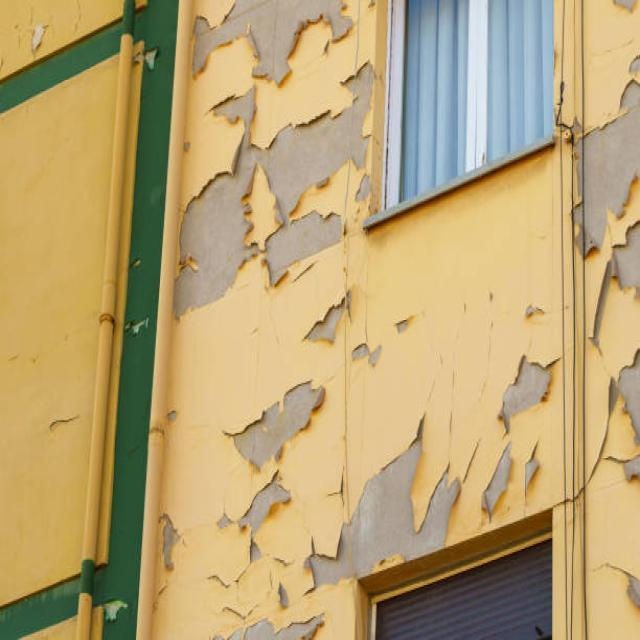peeling: (248, 344, 564, 635), (174, 0, 383, 332), (559, 64, 639, 496), (214, 371, 330, 590)
